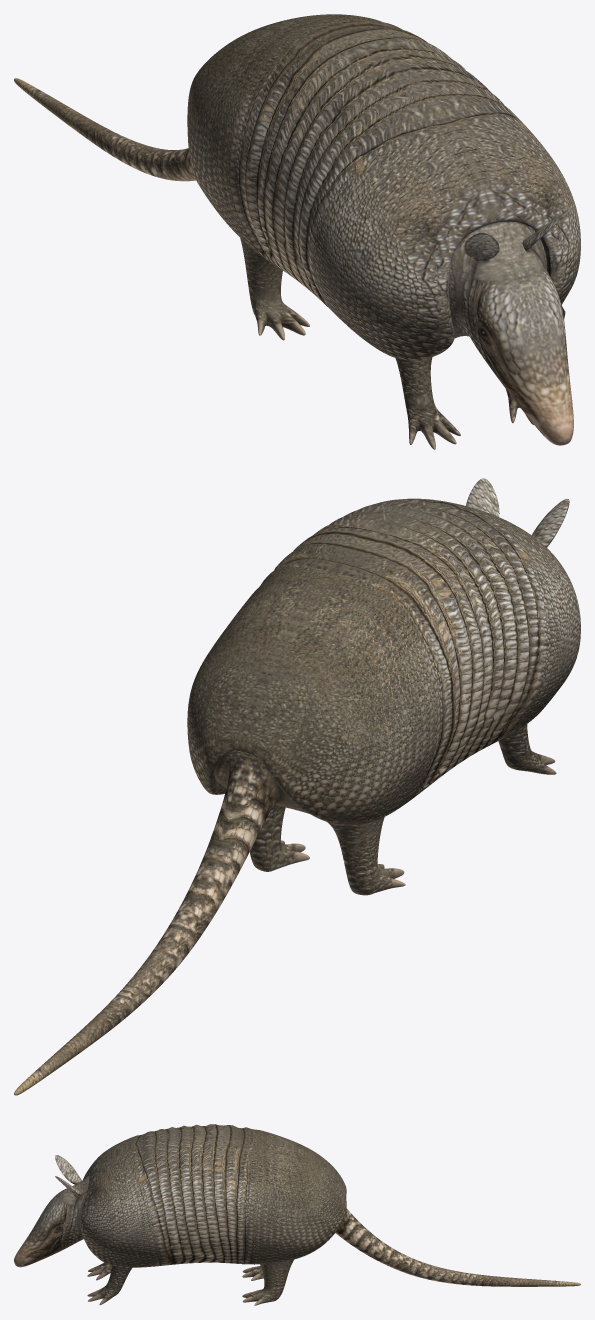
Rendered from armadillonon-commercial.glb.
The picture shows the model from 3 angles, top to bottom: view 1: azimuth 30°, elevation 25°; view 2: azimuth 150°, elevation 25°; view 3: azimuth 270°, elevation 25°; orthographic projection. The views are drawn at different scales.
Parts seen in each view (by area): view 1: Armadillo_0; view 2: Armadillo_0; view 3: Armadillo_0.
Part boxes in pixels (x1=…): Armadillo_0: x1=14, y1=14, x2=580, y2=449; Armadillo_0: x1=14, y1=478, x2=580, y2=1095; Armadillo_0: x1=14, y1=1124, x2=580, y2=1305.
Size of the model in its own units: 0.3503 by 0.4344 by 1.42.
Materials: 1 (1 with a texture image).
